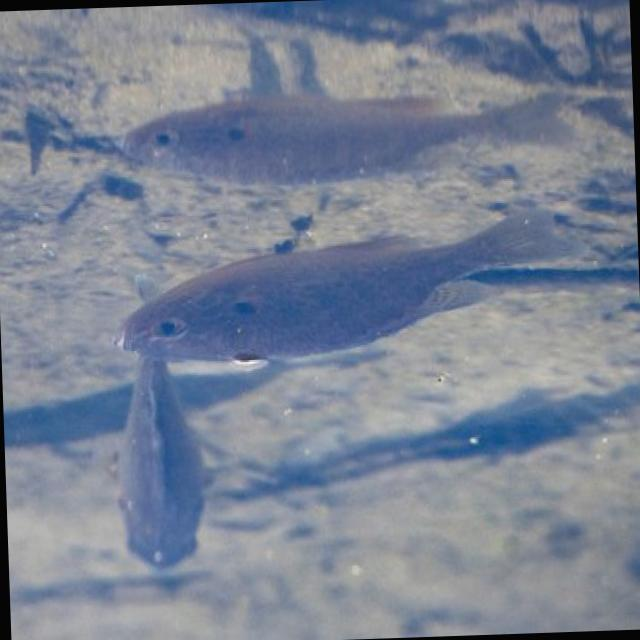Gunes Levregi: (106, 185, 596, 374)
